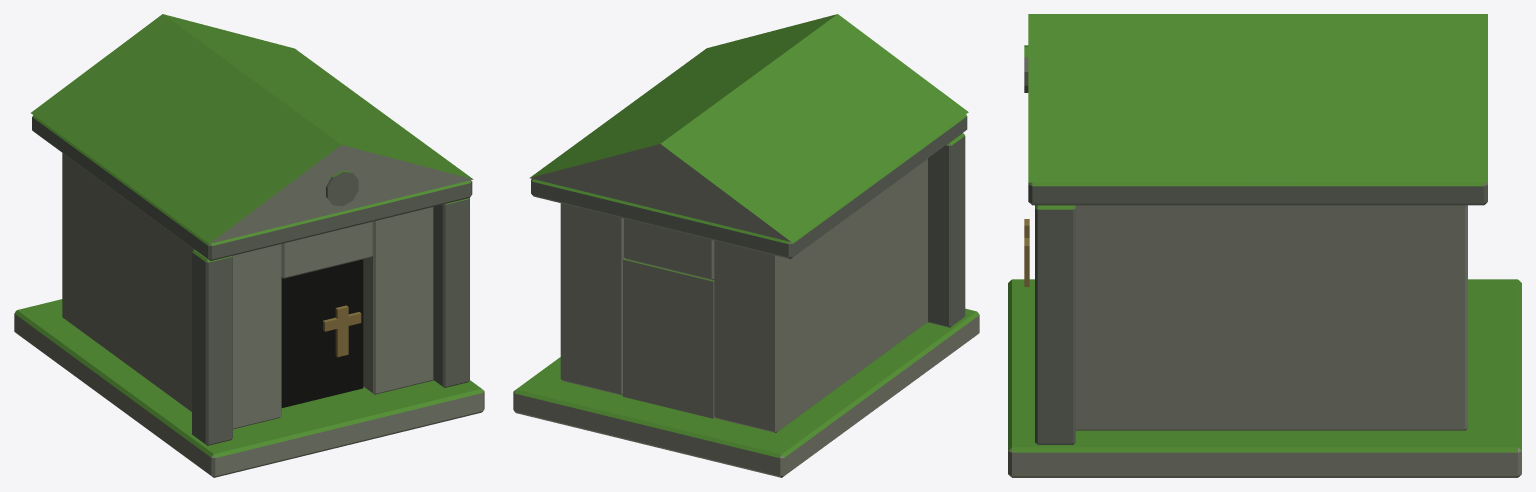
The model's file is Ruin_Crypt.fbx.
3 renders of one model, left to right at view 1: azimuth 30°, elevation 25°; view 2: azimuth 150°, elevation 25°; view 3: azimuth 270°, elevation 25°, orthographic. The views are drawn at different scales.
Visible parts, largest first — view 1: Ruin_Crypt.001; view 2: Ruin_Crypt.001; view 3: Ruin_Crypt.001.
Part boxes in pixels (<box>): Ruin_Crypt.001: <box>14,14,484,477</box>; Ruin_Crypt.001: <box>513,14,979,477</box>; Ruin_Crypt.001: <box>1008,14,1521,477</box>.
Bounding box in the file's own units: 3 × 3.1 × 3.8.
